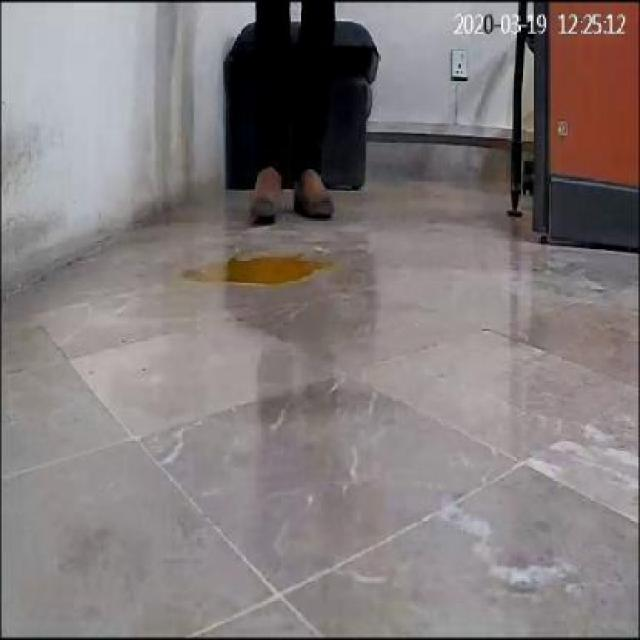spill: (182, 243, 332, 291)
